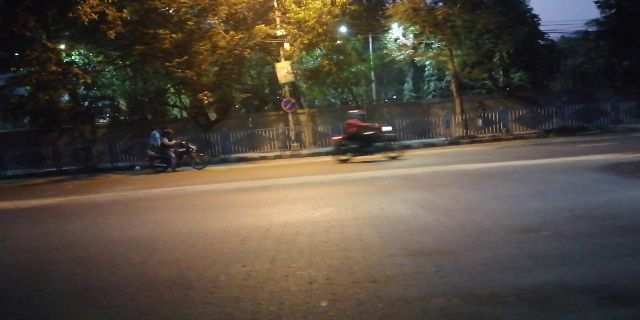Motorbike: (323, 111, 405, 160), (137, 126, 209, 168)
